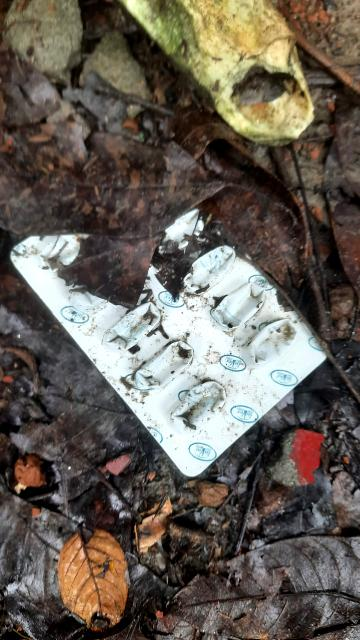medicine: (8, 146, 342, 488)
